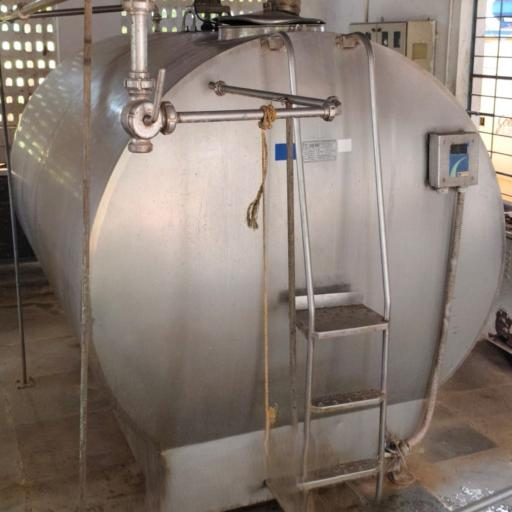silo: (7, 9, 508, 511)
